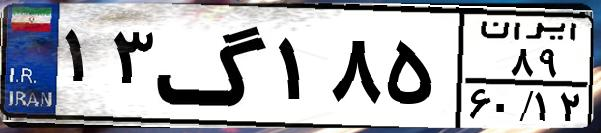0: (495, 70, 520, 125)
1: (270, 28, 330, 110), (57, 26, 110, 100), (535, 70, 560, 125)
2: (560, 70, 590, 125)
3: (110, 28, 156, 98)
5: (385, 28, 445, 110)
6: (470, 70, 495, 125)
8: (330, 28, 385, 110), (508, 27, 537, 80)
9: (537, 27, 568, 80)
گ: (156, 12, 270, 120)
